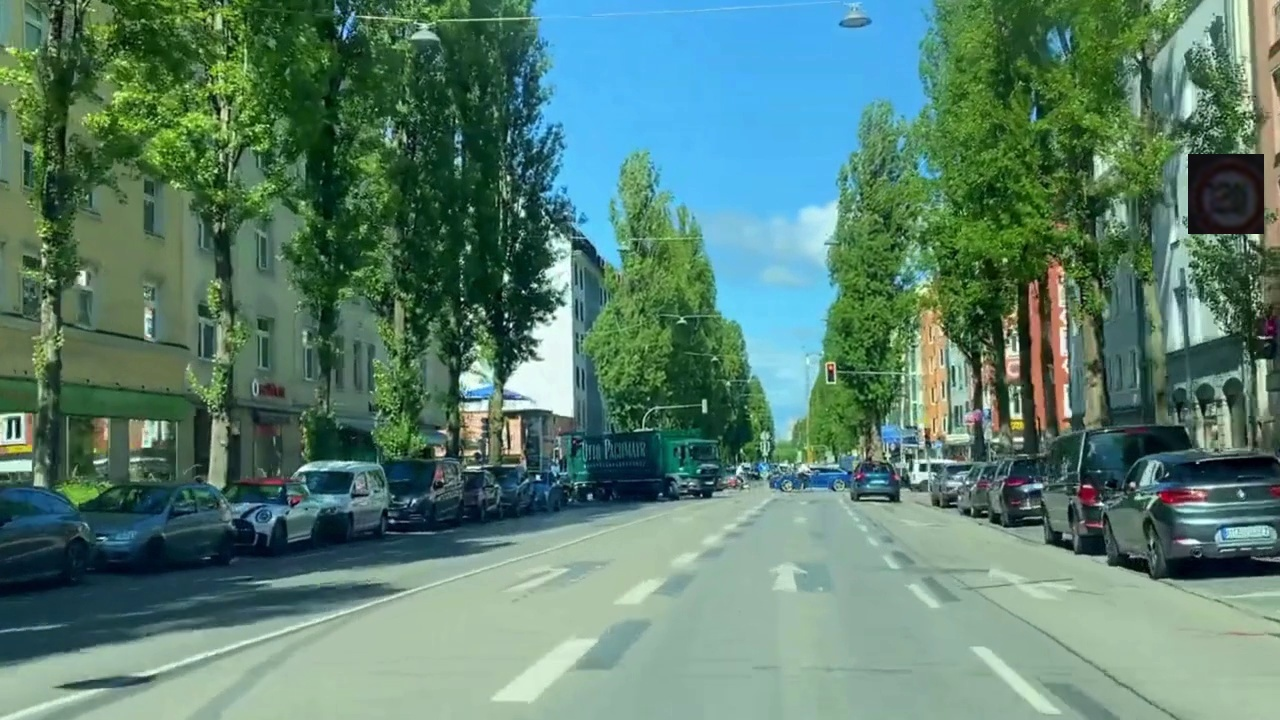Speed 120: (1188, 154, 1264, 234)
